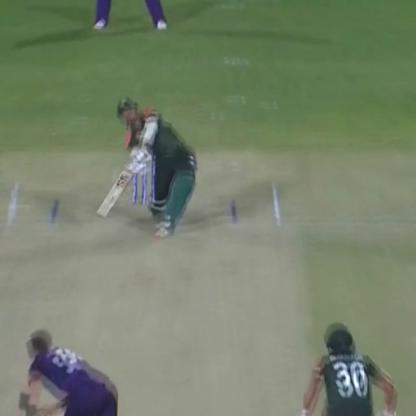ball: (106, 201, 116, 211)
bat: (95, 174, 136, 217)
pitch: (2, 169, 294, 415)
